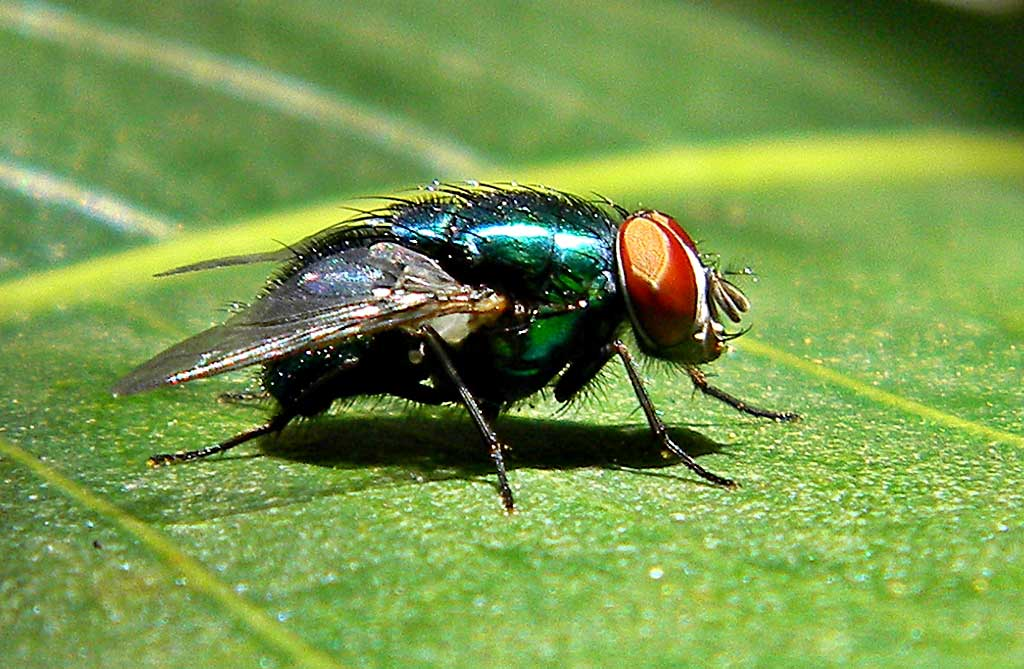green bottles fly: (127, 124, 817, 556)
